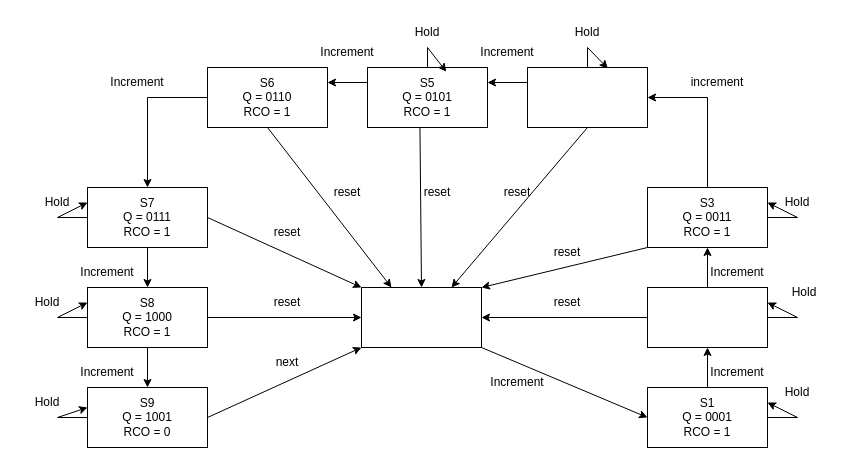
The diagram is 851 pixels wide and 465 high, and some of its shapes have lost their labels. The shapes that lost their labels are listed below. From the top down, each one's centre as x and y in pixels, then its label:
At point (587, 97): "S4 Q = 0100 RCO = 1".
At point (421, 317): "S0 Q = 0000 RCO = 1".
At point (707, 317): "S2 Q = 0010 RCO = 1".
